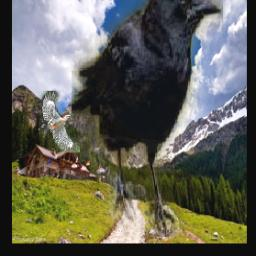Crow: (72, 0, 224, 237)
Woodpecker: (39, 92, 81, 154)
